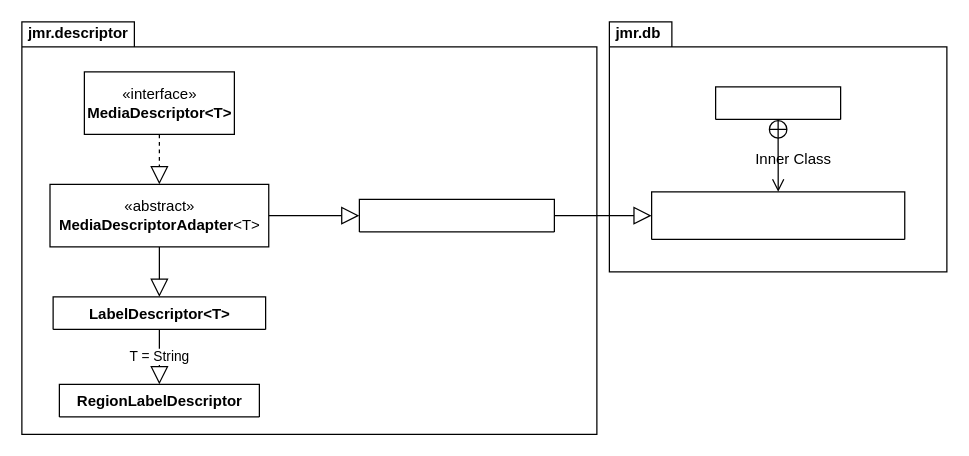
This 969x456 diagram has some shape labels left out. The centre of each missing label's shape, as x and y in pixels:
"DescriptorList<T>" belongs at [456,215].
"ListDB<T>" belongs at [777,102].
"Record implements Comparable<Record>" belongs at [777,215].
